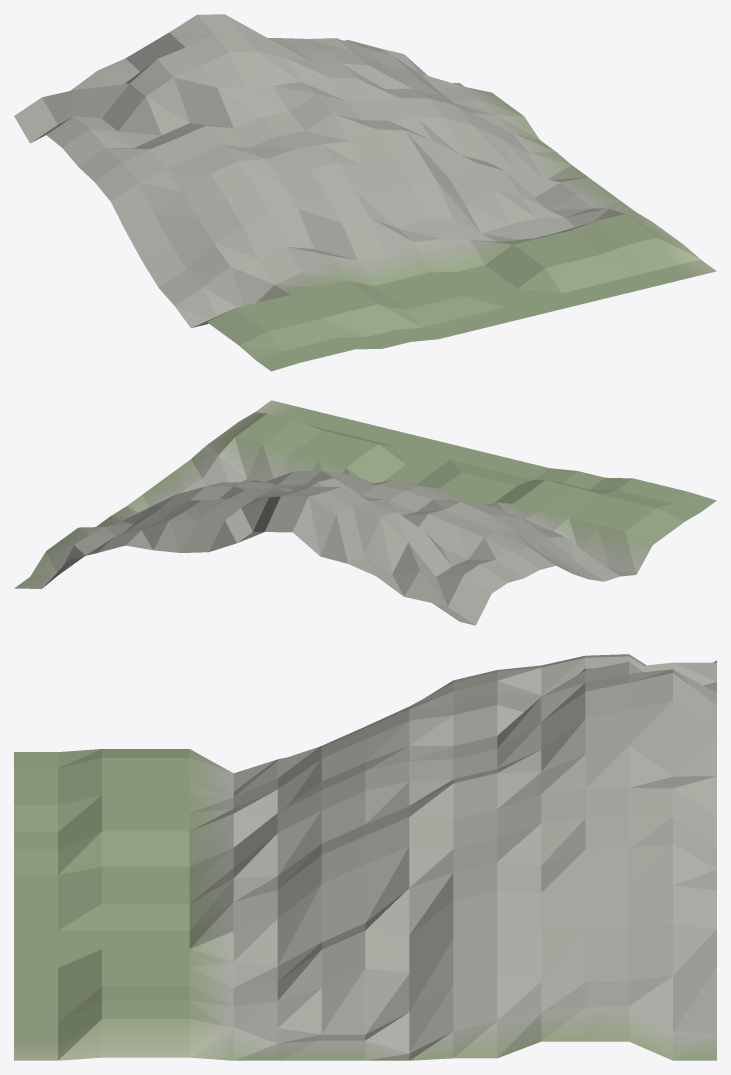
3 renders of one model, top to bottom at view 1: azimuth 30°, elevation 25°; view 2: azimuth 150°, elevation 25°; view 3: azimuth 270°, elevation 25°, orthographic. The views are drawn at different scales.
Size of the model in its own units: 32 by 10.73 by 32.
